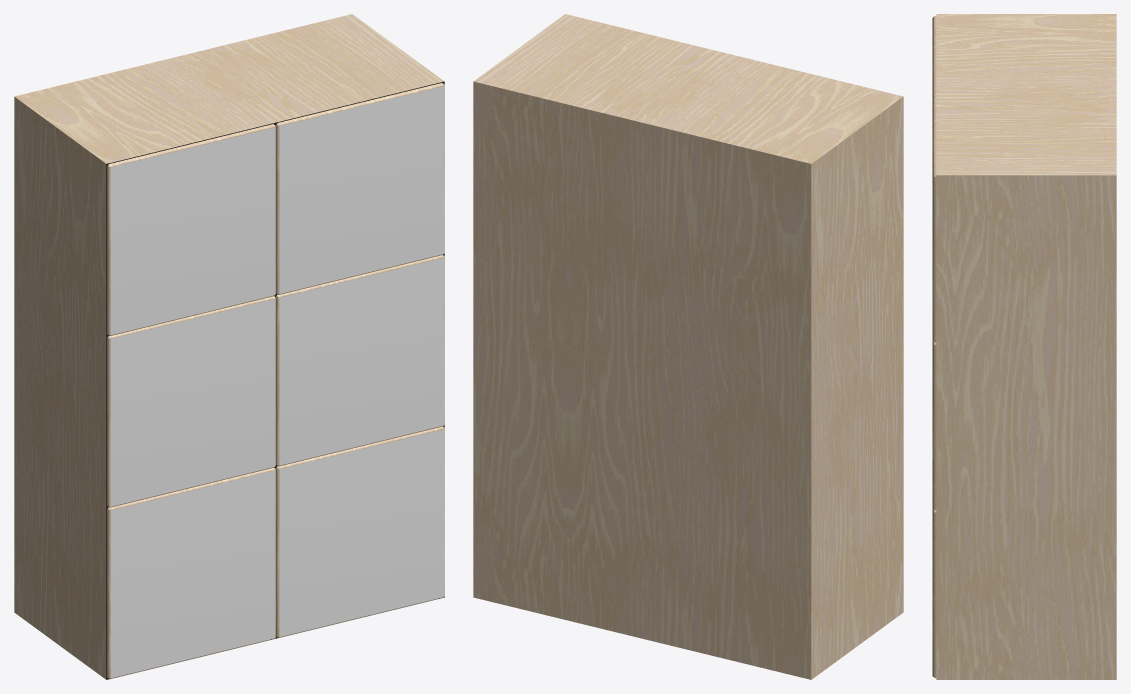
Rendered from cupboard_029.fbx.
3 renders of one model, left to right at view 1: azimuth 30°, elevation 25°; view 2: azimuth 150°, elevation 25°; view 3: azimuth 270°, elevation 25°, orthographic. The views are drawn at different scales.
Parts seen in each view (by area): view 1: cupboard_029; view 2: cupboard_029; view 3: cupboard_029.
Boxes of the visible parts, x1,y1,x2,y2 form: cupboard_029: (14, 14, 444, 679); cupboard_029: (473, 14, 903, 679); cupboard_029: (932, 14, 1116, 679).
Size of the model in its own units: 192 by 92.64 by 280.
